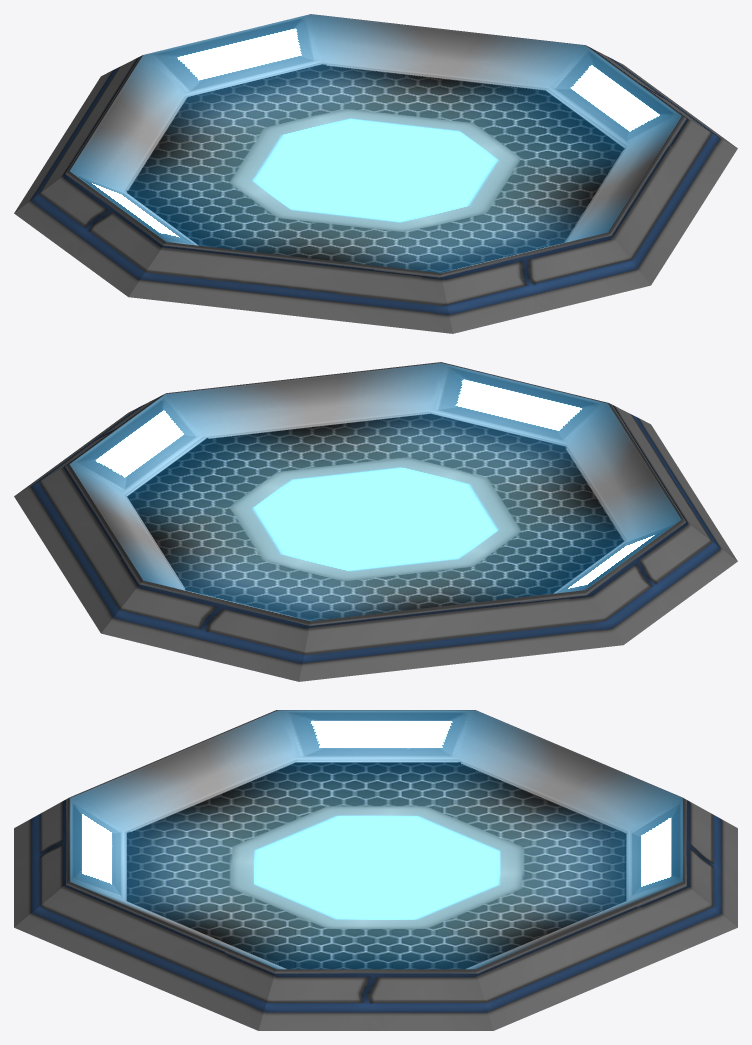
The model's file is hologram_projectorA.fbx.
3 renders of one model, top to bottom at view 1: azimuth 30°, elevation 25°; view 2: azimuth 150°, elevation 25°; view 3: azimuth 270°, elevation 25°, orthographic. The views are drawn at different scales.
Parts seen in each view (by area): view 1: polySurface1; view 2: polySurface1; view 3: polySurface1.
Boxes of the visible parts, box(x1,y1,x2,y2) form: polySurface1: box(14, 14, 737, 333); polySurface1: box(14, 362, 737, 681); polySurface1: box(14, 710, 737, 1030).
Size of the model in its own units: 2.86 by 0.1675 by 2.86.
